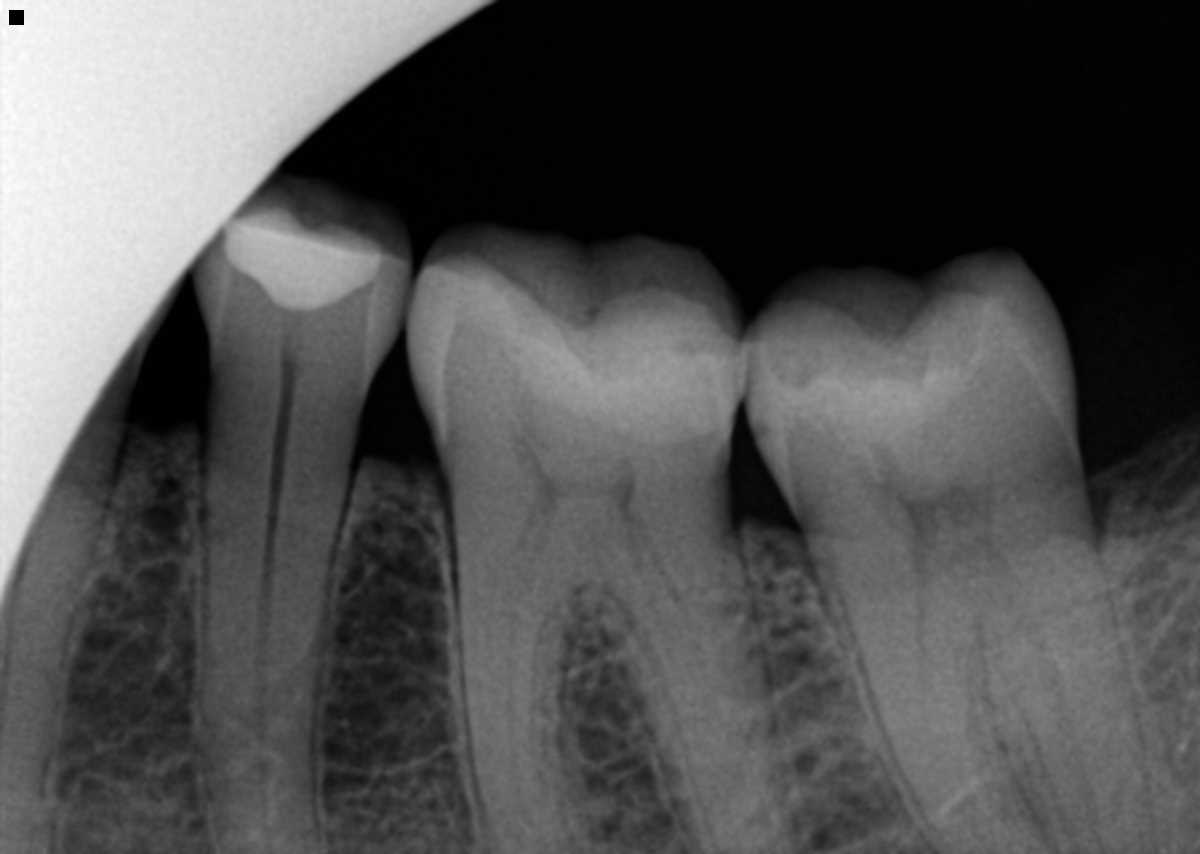Distal Canal: (991, 571, 1110, 854)
Distal Root: (584, 473, 822, 854), (977, 551, 1159, 854)
Main Canal: (255, 451, 290, 783)
Main Root: (200, 441, 364, 852), (0, 423, 129, 854)
Mesial Canal: (912, 594, 941, 750)
Mesial Root: (836, 590, 1056, 854), (454, 513, 581, 854)
